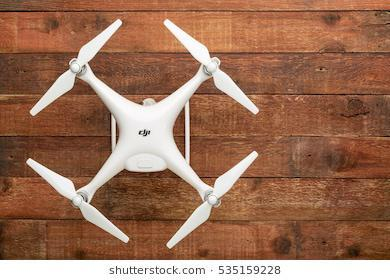drone: (0, 15, 275, 251)
